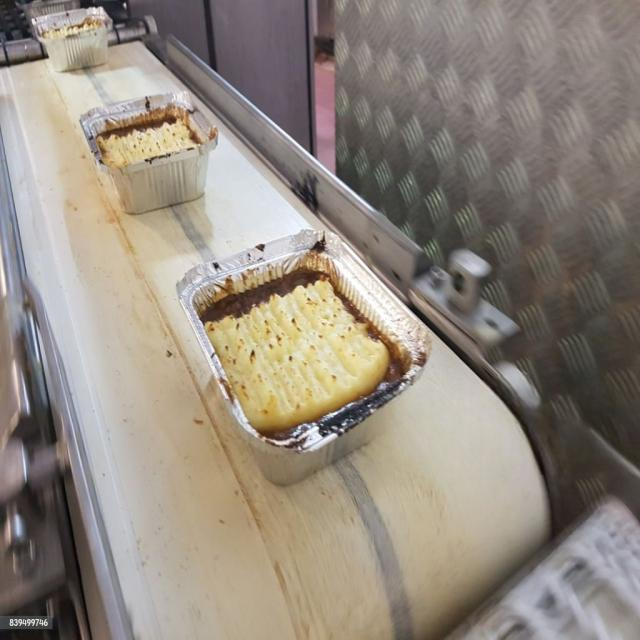food: (176, 218, 436, 484), (80, 84, 225, 213)
